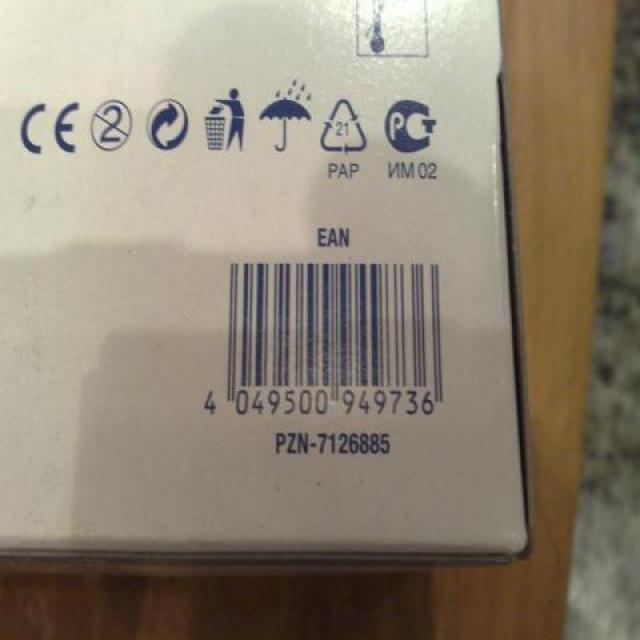Barcode: (190, 252, 463, 428)
